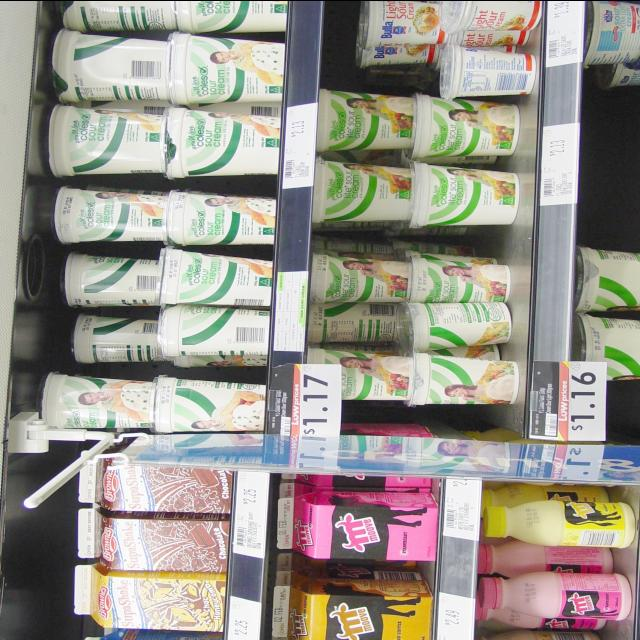empty_space: (577, 91, 640, 233)
